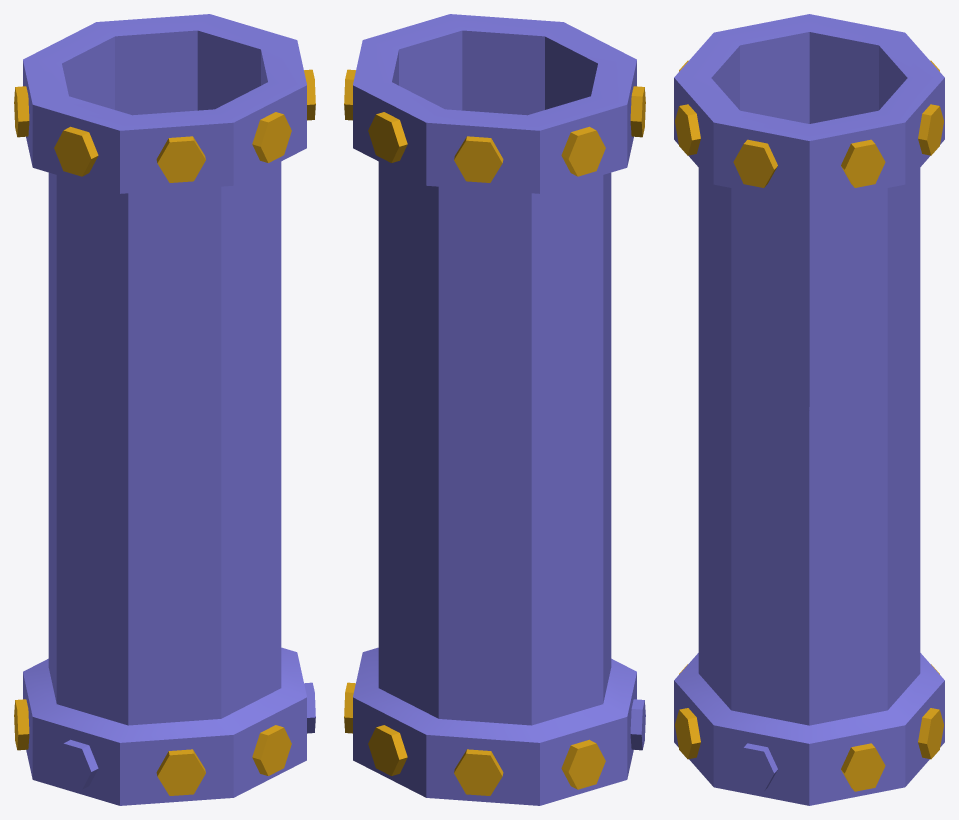
The model's file is pipe2.1.fbx.
3 views of the same model, side by side, from view 1: azimuth 30°, elevation 25°; view 2: azimuth 150°, elevation 25°; view 3: azimuth 270°, elevation 25° (orthographic).
Parts seen in each view (by area): view 1: pipe2.1; view 2: pipe2.1; view 3: pipe2.1.
Boxes of the visible parts, <box> form: pipe2.1: <box>14,14,315,805</box>; pipe2.1: <box>344,14,645,805</box>; pipe2.1: <box>674,14,944,805</box>.
Size of the model in its own units: 4.09 by 3.68 by 9.98.
